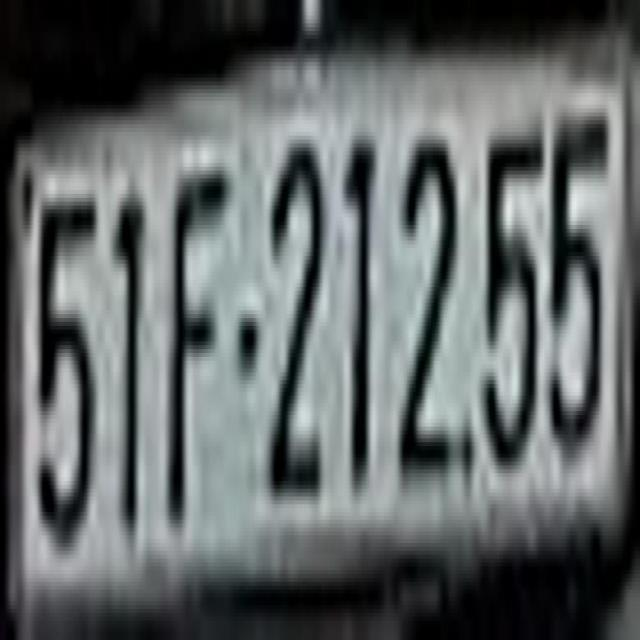1: (343, 116, 373, 492), (113, 178, 144, 536)
2: (270, 144, 318, 478), (403, 128, 452, 454)
5: (35, 151, 96, 547), (554, 105, 605, 442), (488, 140, 542, 458)
F: (172, 156, 226, 532)
